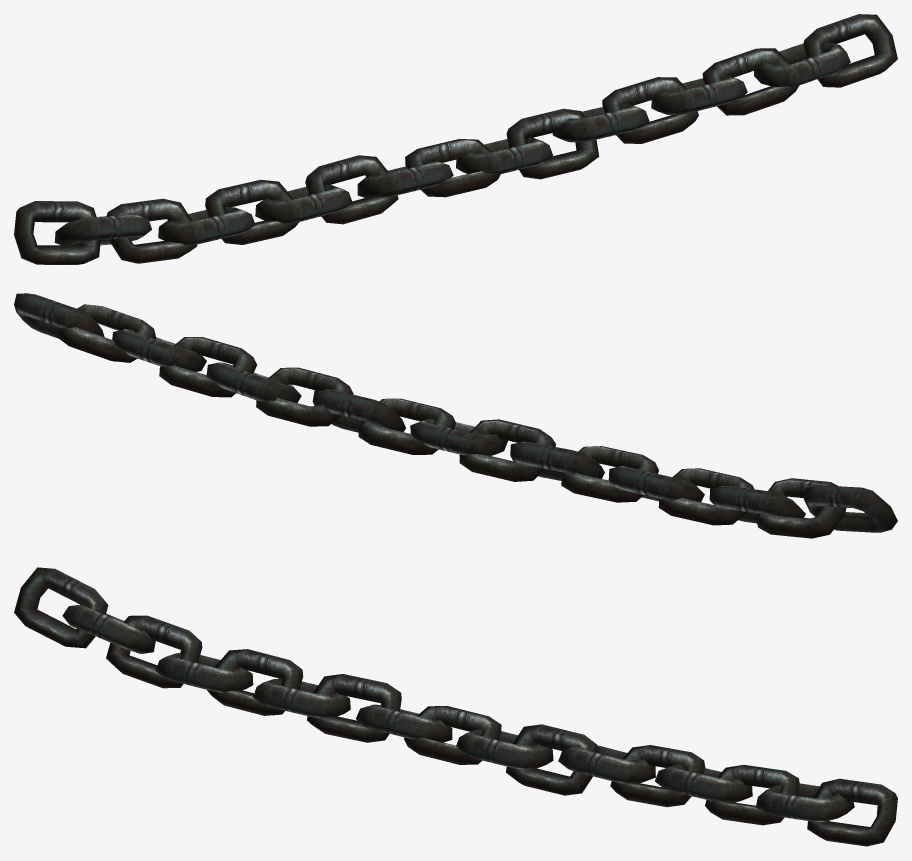
Rendered from S2_Build_XSC119.FBX.
3 renders of one model, top to bottom at view 1: azimuth 30°, elevation 25°; view 2: azimuth 150°, elevation 25°; view 3: azimuth 330°, elevation 25°, orthographic.
Visible parts, largest first — view 1: S2_Build_XSC119; view 2: S2_Build_XSC119; view 3: S2_Build_XSC119.
Boxes of the visible parts, x1=… form: S2_Build_XSC119: x1=14, y1=14, x2=897, y2=264; S2_Build_XSC119: x1=14, y1=293, x2=897, y2=538; S2_Build_XSC119: x1=14, y1=567, x2=897, y2=846.
Bounding box in the file's own units: 10058 × 908 × 727.
